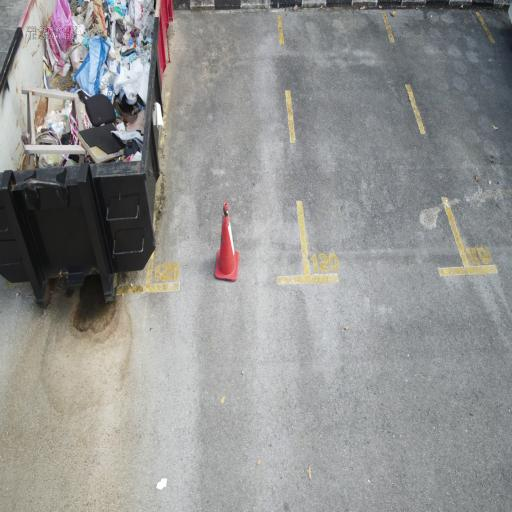Empty: (275, 5, 475, 292), (142, 6, 314, 308)
